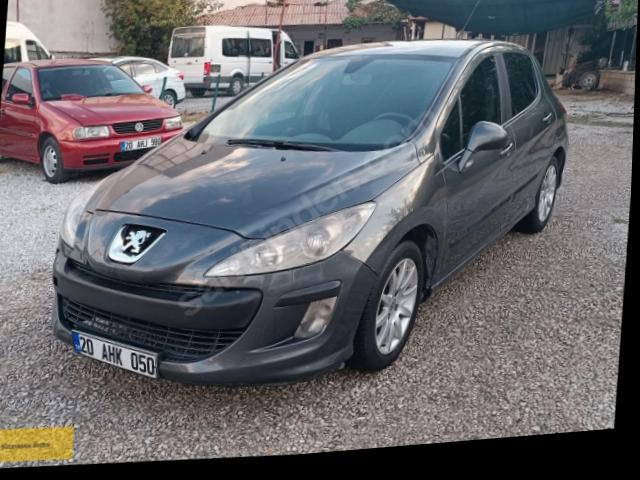plaka: (73, 330, 158, 377), (121, 136, 161, 152)
